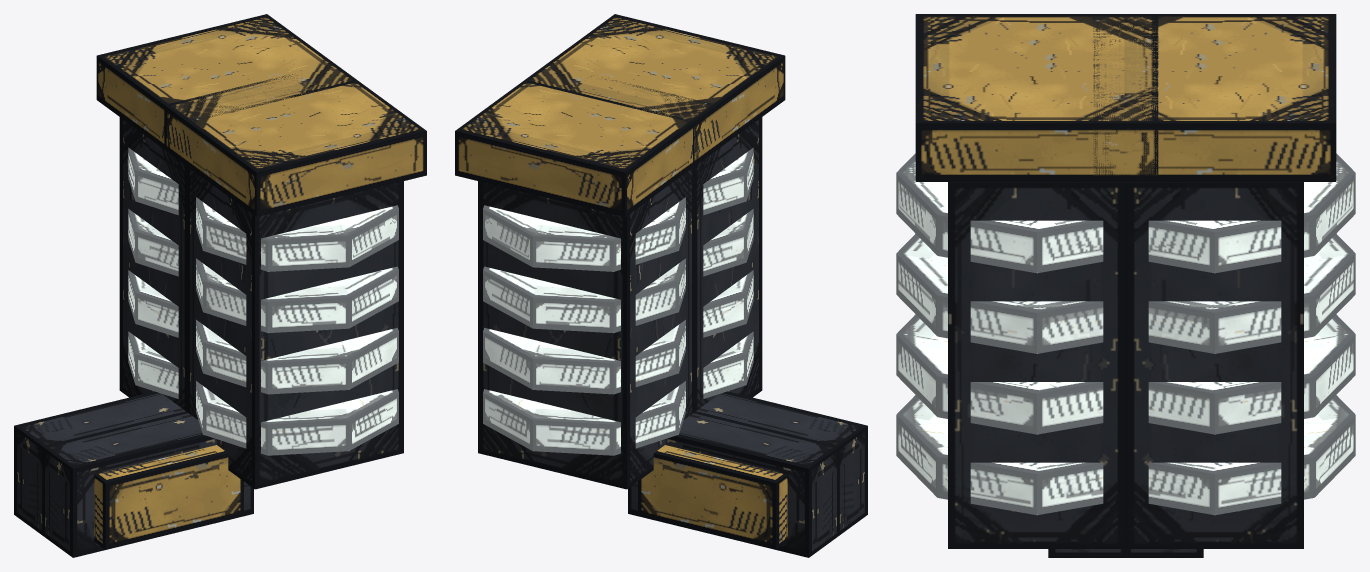
The model's file is accessory_overclocked_elemental_coil.glb.
3 renders of one model, left to right at view 1: azimuth 30°, elevation 25°; view 2: azimuth 150°, elevation 25°; view 3: azimuth 270°, elevation 25°, orthographic. The views are drawn at different scales.
Parts seen in each view (by area): view 1: FACE_FRONT, FACE_BACK; view 2: FACE_BACK, FACE_FRONT; view 3: FACE_FRONT, FACE_BACK.
Part boxes in pixels (left/top/right/bottom): FACE_FRONT: left=42, top=74, right=426, bottom=557; FACE_BACK: left=14, top=14, right=358, bottom=536; FACE_BACK: left=455, top=77, right=838, bottom=557; FACE_FRONT: left=523, top=14, right=867, bottom=536; FACE_FRONT: left=896, top=14, right=1158, bottom=557; FACE_BACK: left=1093, top=14, right=1355, bottom=557.
Size of the model in its own units: 0.292 by 0.35 by 0.284.
Materials: 2 (2 with a texture image).
